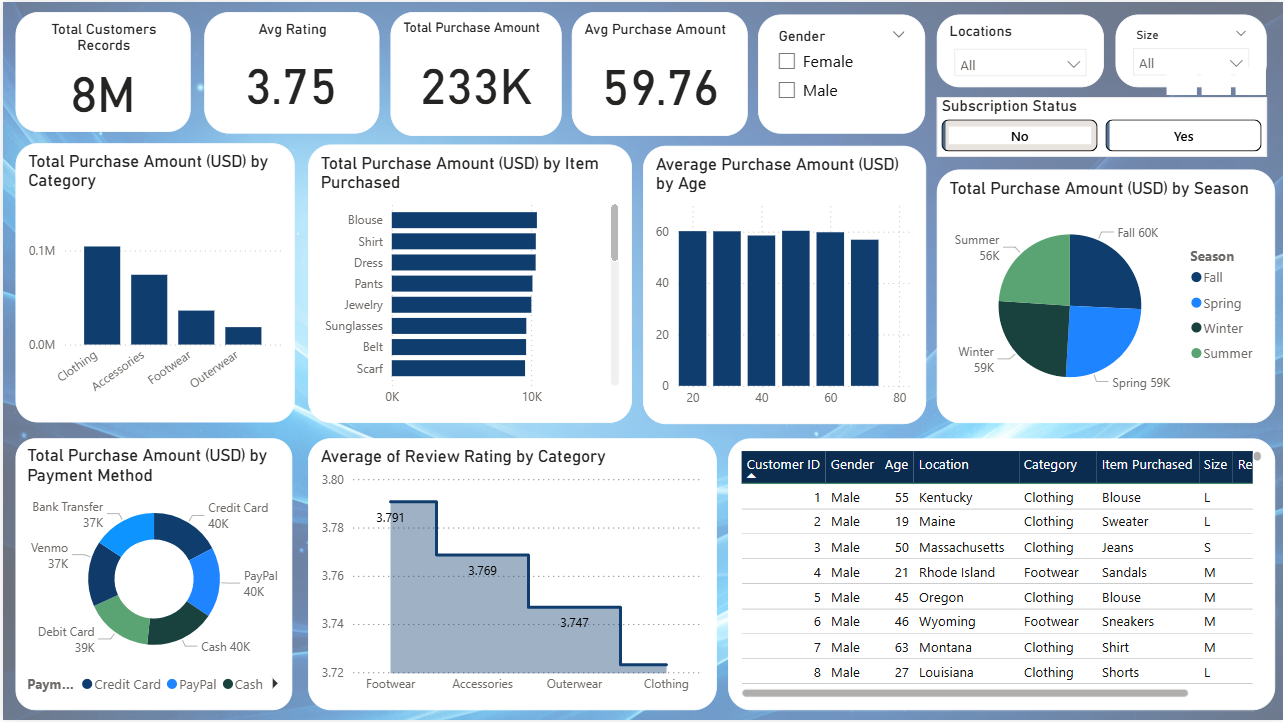

The dashboard page shown, as its layout file describes it:
{"tool":"powerbi","page":{"name":"Page 1","canvas":[1280,719],"ordinal":0},"visuals":[{"type":"columnChart","title":"Total Purchase Amount (USD) by Category","fields":{"Category":["Table1.Category"],"Y":["Sum(Table1.Purchase Amount (USD))"]},"box":[12,141,279.5,279.5],"z":0},{"type":"barChart","title":"Total Purchase Amount (USD) by Item Purchased","fields":{"Category":["Table1.Item Purchased"],"Y":["Sum(Table1.Purchase Amount (USD))"]},"box":[304.8,142.2,324.1,278.3],"z":1000},{"type":"slicer","title":"Locations","fields":{"Values":["Table1.Location","Table1.Purchase Amount (USD)"]},"box":[933.8,12.5,167.5,72.5],"z":2000},{"type":"card","title":"Total Purchase Amount","fields":{"Values":["Table1.Total Purchase Amount"]},"box":[387.5,10,171.2,123.8],"z":3000},{"type":"card","title":"Total Customers Records","fields":{"Values":["Table1.Total customers"]},"box":[12.5,10,175,120],"z":4000},{"type":"card","title":"Avg Purchase Amount","fields":{"Values":["Table1.Avg Purchase Amount"]},"box":[568.8,10,176.2,123.8],"z":5000},{"type":"card","title":"Avg Rating","fields":{"Values":["Table1.Avg Review Rating"]},"box":[201.2,10,175,121.2],"z":6000},{"type":"stackedAreaChart","fields":{"Category":["Table1.Category"],"Y":["Avg(Table1.Review Rating)"]},"box":[304.8,436.1,408.4,272.3],"z":7000},{"type":"slicer","fields":{"Values":["Table1.Gender"]},"box":[755.4,12,167.5,119.3],"z":8000},{"type":"slicer","fields":{"Values":["Table1.Size"]},"box":[1112.5,12.5,151.2,72.5],"z":9000},{"type":"clusteredColumnChart","title":"Average Purchase Amount (USD) by Age","fields":{"Y":["Avg(Table1.Purchase Amount (USD))"],"Category":["Table1.Age (bins)"]},"box":[639.7,143.4,283.1,278.3],"z":10000},{"type":"donutChart","title":"Total Purchase Amount (USD) by Payment Method","fields":{"Category":["Table1.Payment Method"],"Y":["Sum(Table1.Purchase Amount (USD))"]},"box":[12,436.1,277.1,272.3],"z":11000},{"type":"pieChart","title":"Total Purchase Amount (USD) by Season","fields":{"Category":["Table1.Season"],"Y":["Sum(Table1.Purchase Amount (USD))"]},"box":[933.8,167.5,338.8,253.8],"z":12000},{"type":"tableEx","fields":{"Values":["Table1.Customer ID","Table1.Gender","Table1.Age","Table1.Location","Table1.Category","Table1.Item Purchased","Table1.Size","Table1.Review Rating"]},"box":[725.3,436.1,547,272.3],"z":13000},{"type":"advancedSlicerVisual","fields":{"Values":["Table1.Subscription Status"]},"box":[933.8,95,330,60],"z":14000}]}

Visuals, with their boxes in screenshot pixels (x1, y1, x2, y2), scaled from the page's 1280x719 canvas onto the 1283x722 screenshot:
"Total Purchase Amount (USD) by Category" columnChart: [12, 142, 292, 422]
"Total Purchase Amount (USD) by Item Purchased" barChart: [306, 143, 630, 422]
"Locations" slicer: [936, 13, 1104, 85]
"Total Purchase Amount" card: [388, 10, 560, 134]
"Total Customers Records" card: [13, 10, 188, 131]
"Avg Purchase Amount" card: [570, 10, 747, 134]
"Avg Rating" card: [202, 10, 377, 132]
stackedAreaChart - Table1.Category x Avg(Table1.Review Rating): [306, 438, 715, 711]
slicer - Table1.Gender: [757, 12, 925, 132]
slicer - Table1.Size: [1115, 13, 1267, 85]
"Average Purchase Amount (USD) by Age" clusteredColumnChart: [641, 144, 925, 423]
"Total Purchase Amount (USD) by Payment Method" donutChart: [12, 438, 290, 711]
"Total Purchase Amount (USD) by Season" pieChart: [936, 168, 1276, 423]
tableEx - Table1.Customer ID x Table1.Gender: [727, 438, 1275, 711]
advancedSlicerVisual - Table1.Subscription Status: [936, 95, 1267, 156]
